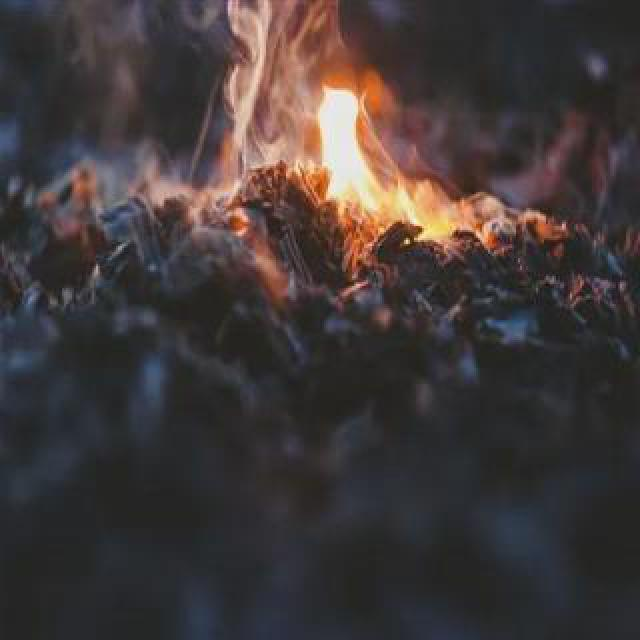Fire: (318, 10, 568, 264)
